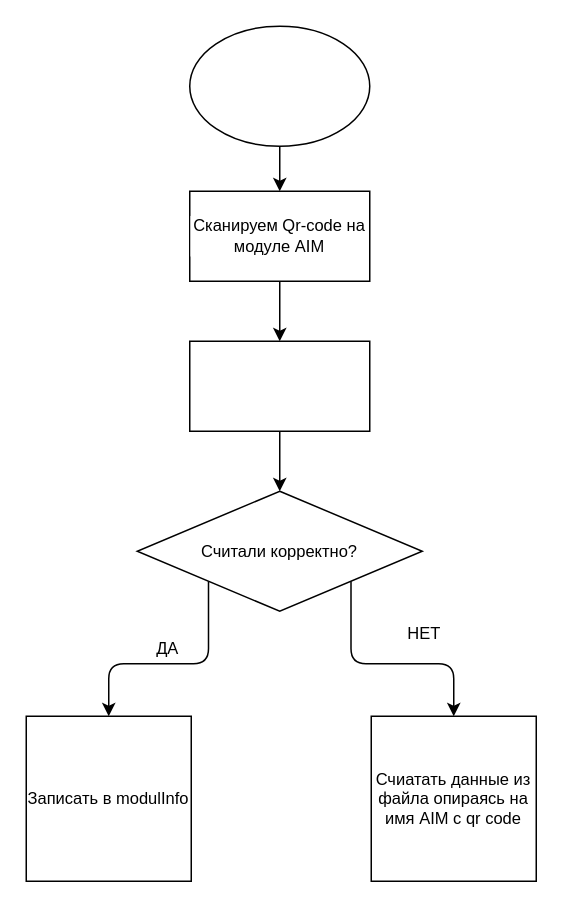
This 563x908 diagram has some shape labels left out. The box of each missing label's shape, as (x1, y1, x2, y2) in pixels:
Начало программы: (188, 25, 370, 146)
Считываем данные из eeprom AIM: (188, 340, 370, 431)
